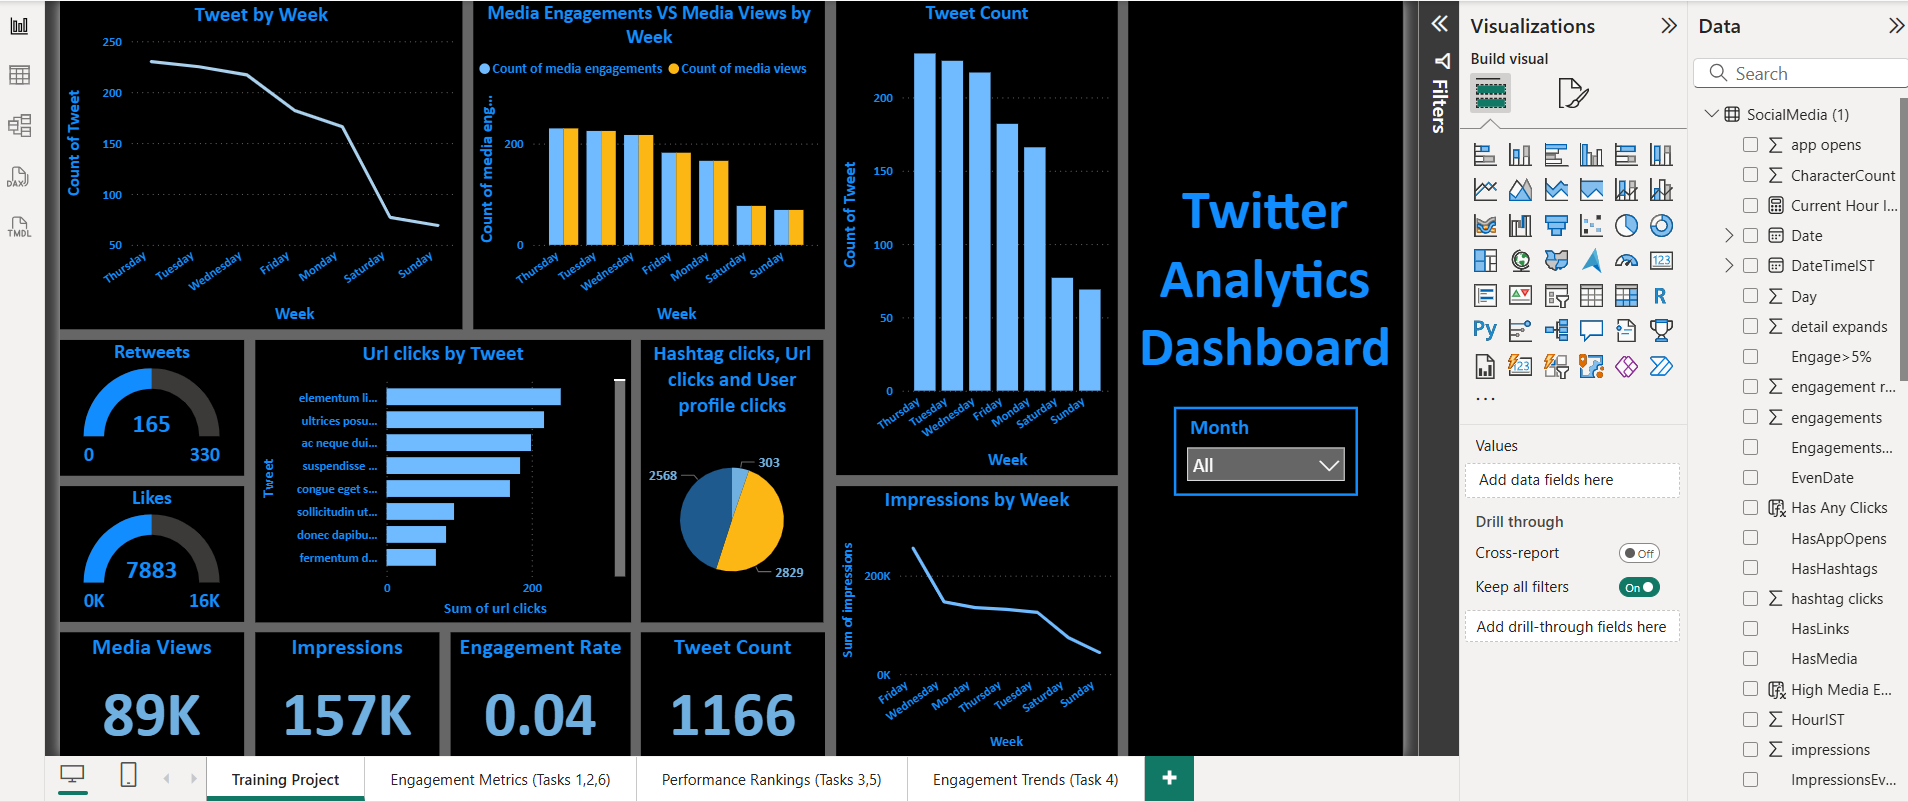

The dashboard page shown, as its layout file describes it:
{"tool":"powerbi","page":{"name":"Training Project","canvas":[1280,720],"ordinal":0},"visuals":[{"type":"textbox","box":[1018.2,0,261.2,719.6],"z":0},{"type":"card","title":"Media Views","fields":{"Values":["Sum(SocialMedia (1).media views)"]},"box":[0,601.5,175,118.1],"z":1000},{"type":"card","title":"Impressions","fields":{"Values":["Max(SocialMedia (1).impressions)"]},"box":[186.1,601.5,175,118.1],"z":2000},{"type":"card","title":"Engagement Rate","fields":{"Values":["Avg(SocialMedia (1).engagement rate)"]},"box":[372.1,601.3,171.6,118.8],"z":3000},{"type":"card","title":"Tweet Count","fields":{"Values":["CountNonNull(SocialMedia (1).Tweet)"]},"box":[552.9,601.5,175,118.1],"z":4000},{"type":"gauge","title":"Likes","fields":{"Y":["Sum(SocialMedia (1).likes)"]},"box":[0,462.6,175,129.2],"z":5000},{"type":"gauge","title":"Retweets","fields":{"Y":["Max(SocialMedia (1).retweets)"]},"box":[0,322.3,175,129.2],"z":6000},{"type":"slicer","fields":{"Values":["SocialMedia (1).Month"]},"box":[1061,386.5,175.2,85.2],"z":7000},{"type":"lineChart","title":"Tweet by Week","fields":{"Category":["SocialMedia (1).WeekdayName"],"Y":["CountNonNull(SocialMedia (1).Tweet)"]},"box":[0,0,383.4,312.6],"z":8000},{"type":"lineChart","title":"Impressions by Week","fields":{"Category":["SocialMedia (1).WeekdayName"],"Y":["Sum(SocialMedia (1).impressions)"]},"box":[739,462.6,268.1,257],"z":9000},{"type":"clusteredBarChart","title":"Url clicks by Tweet","fields":{"Category":["SocialMedia (1).Tweet"],"Y":["Sum(SocialMedia (1).url clicks)"]},"box":[186,322.9,357.7,268.8],"z":10000},{"type":"pieChart","title":"Hashtag clicks, Url clicks and User profile clicks","fields":{"Y":["Sum(SocialMedia (1).hashtag clicks)","Sum(SocialMedia (1).url clicks)","Sum(SocialMedia (1).user profile clicks)"]},"box":[553.3,322.9,174,268.8],"z":11000},{"type":"clusteredColumnChart","title":"Media Engagements VS Media Views by Week","fields":{"Category":["SocialMedia (1).WeekdayName"],"Y":["CountNonNull(SocialMedia (1).media engagements)","CountNonNull(SocialMedia (1).media views)"]},"box":[393.1,0,334.8,312.6],"z":12000},{"type":"clusteredColumnChart","title":"Tweet Count","fields":{"Category":["SocialMedia (1).WeekdayName"],"Y":["CountNonNull(SocialMedia (1).Tweet)"]},"box":[739,0,268.1,451.5],"z":13000}]}

Visuals, with their boxes in screenshot pixels (x1, y1, x2, y2):
textbox: BBox(1126, 0, 1402, 751)
"Media Views" card: BBox(50, 626, 235, 751)
"Impressions" card: BBox(246, 626, 431, 751)
"Engagement Rate" card: BBox(443, 626, 624, 751)
"Tweet Count" card: BBox(634, 626, 819, 751)
"Likes" gauge: BBox(50, 479, 235, 616)
"Retweets" gauge: BBox(50, 331, 235, 467)
slicer - SocialMedia (1).Month: BBox(1171, 399, 1356, 489)
"Tweet by Week" lineChart: BBox(50, 0, 455, 320)
"Impressions by Week" lineChart: BBox(831, 479, 1114, 751)
"Url clicks by Tweet" clusteredBarChart: BBox(246, 331, 624, 615)
"Hashtag clicks, Url clicks and User profile clicks" pieChart: BBox(634, 331, 818, 615)
"Media Engagements VS Media Views by Week" clusteredColumnChart: BBox(465, 0, 819, 320)
"Tweet Count" clusteredColumnChart: BBox(831, 0, 1114, 467)
